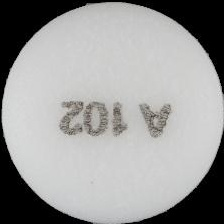68788-9524: (0, 0, 224, 224)
